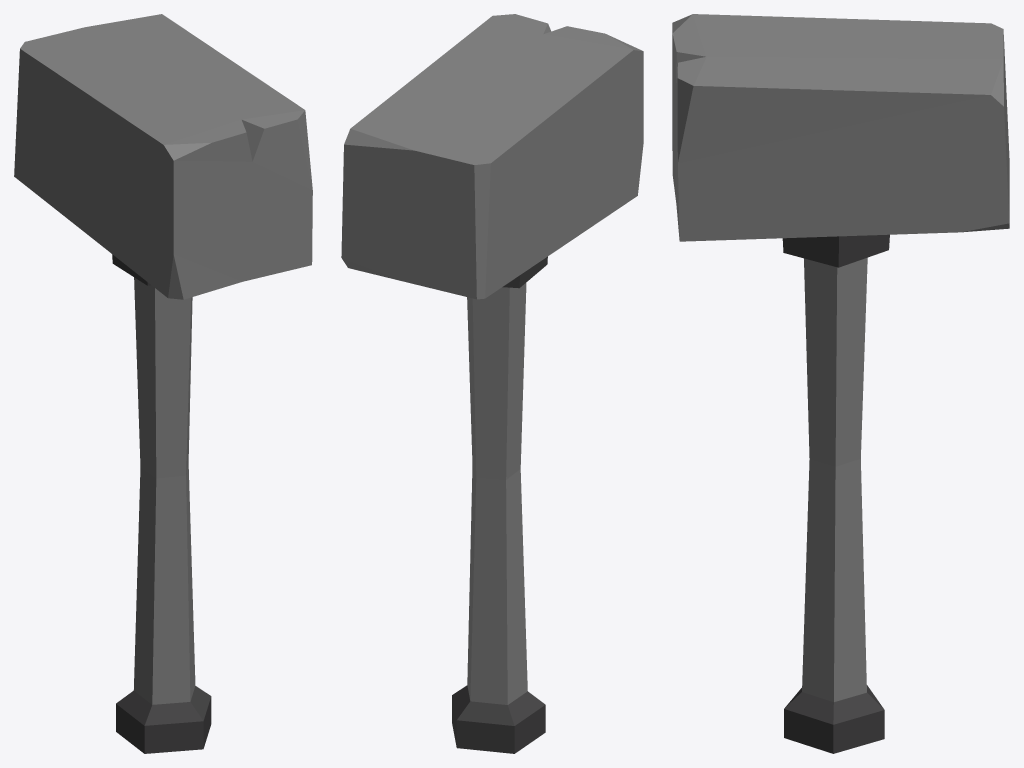
Rendered from Forge_Hammer.gltf.
3 renders of one model, left to right at view 1: azimuth 30°, elevation 25°; view 2: azimuth 150°, elevation 25°; view 3: azimuth 270°, elevation 25°, orthographic. The views are drawn at different scales.
Parts seen in each view (by area): view 1: Forge_Hammer2; view 2: Forge_Hammer2; view 3: Forge_Hammer2.
Boxes of the visible parts, bbox=[...] form: Forge_Hammer2: bbox=[14, 14, 312, 753]; Forge_Hammer2: bbox=[341, 14, 643, 753]; Forge_Hammer2: bbox=[672, 14, 1009, 753].
Size of the model in its own units: 0.0488 by 0.2211 by 0.0968.
1 material, 1 textured.
